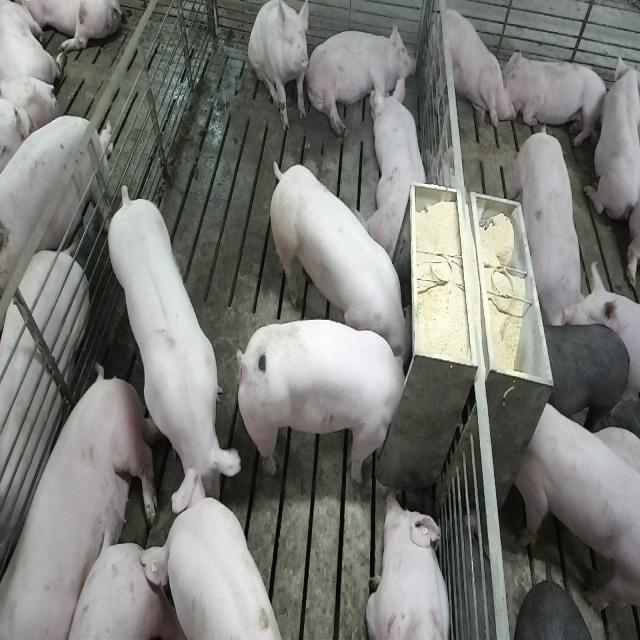Feeding: (264, 159, 412, 365), (232, 317, 408, 484)
Lateral_lying: (4, 367, 160, 640), (305, 20, 417, 137)
Sitting: (248, 1, 312, 133)
Standing: (108, 185, 242, 519), (0, 248, 89, 605), (515, 395, 638, 617), (138, 489, 283, 640), (0, 112, 111, 309), (512, 118, 588, 330), (436, 4, 518, 144), (542, 322, 632, 427)
Sternal_lying: (366, 490, 453, 640), (366, 73, 431, 258), (506, 46, 608, 146), (583, 46, 637, 223)
